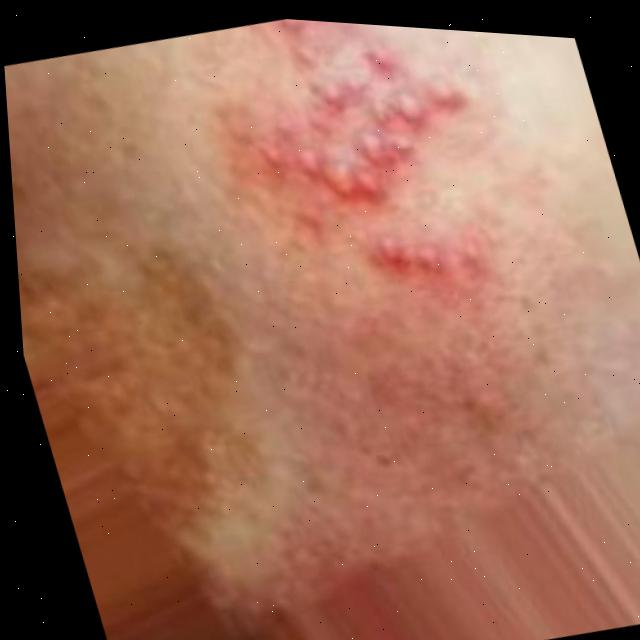Shingles: (223, 15, 521, 313)
